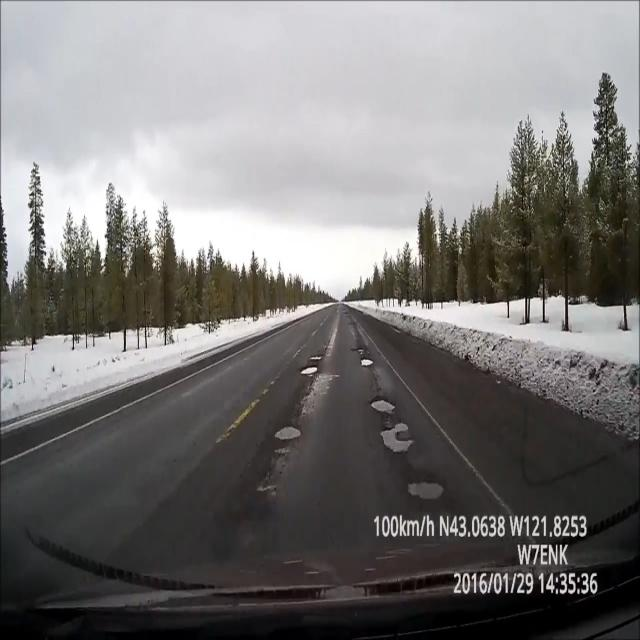Pothole: (364, 390, 428, 460), (268, 421, 310, 465), (401, 478, 447, 506), (299, 344, 323, 383), (351, 336, 375, 374)
